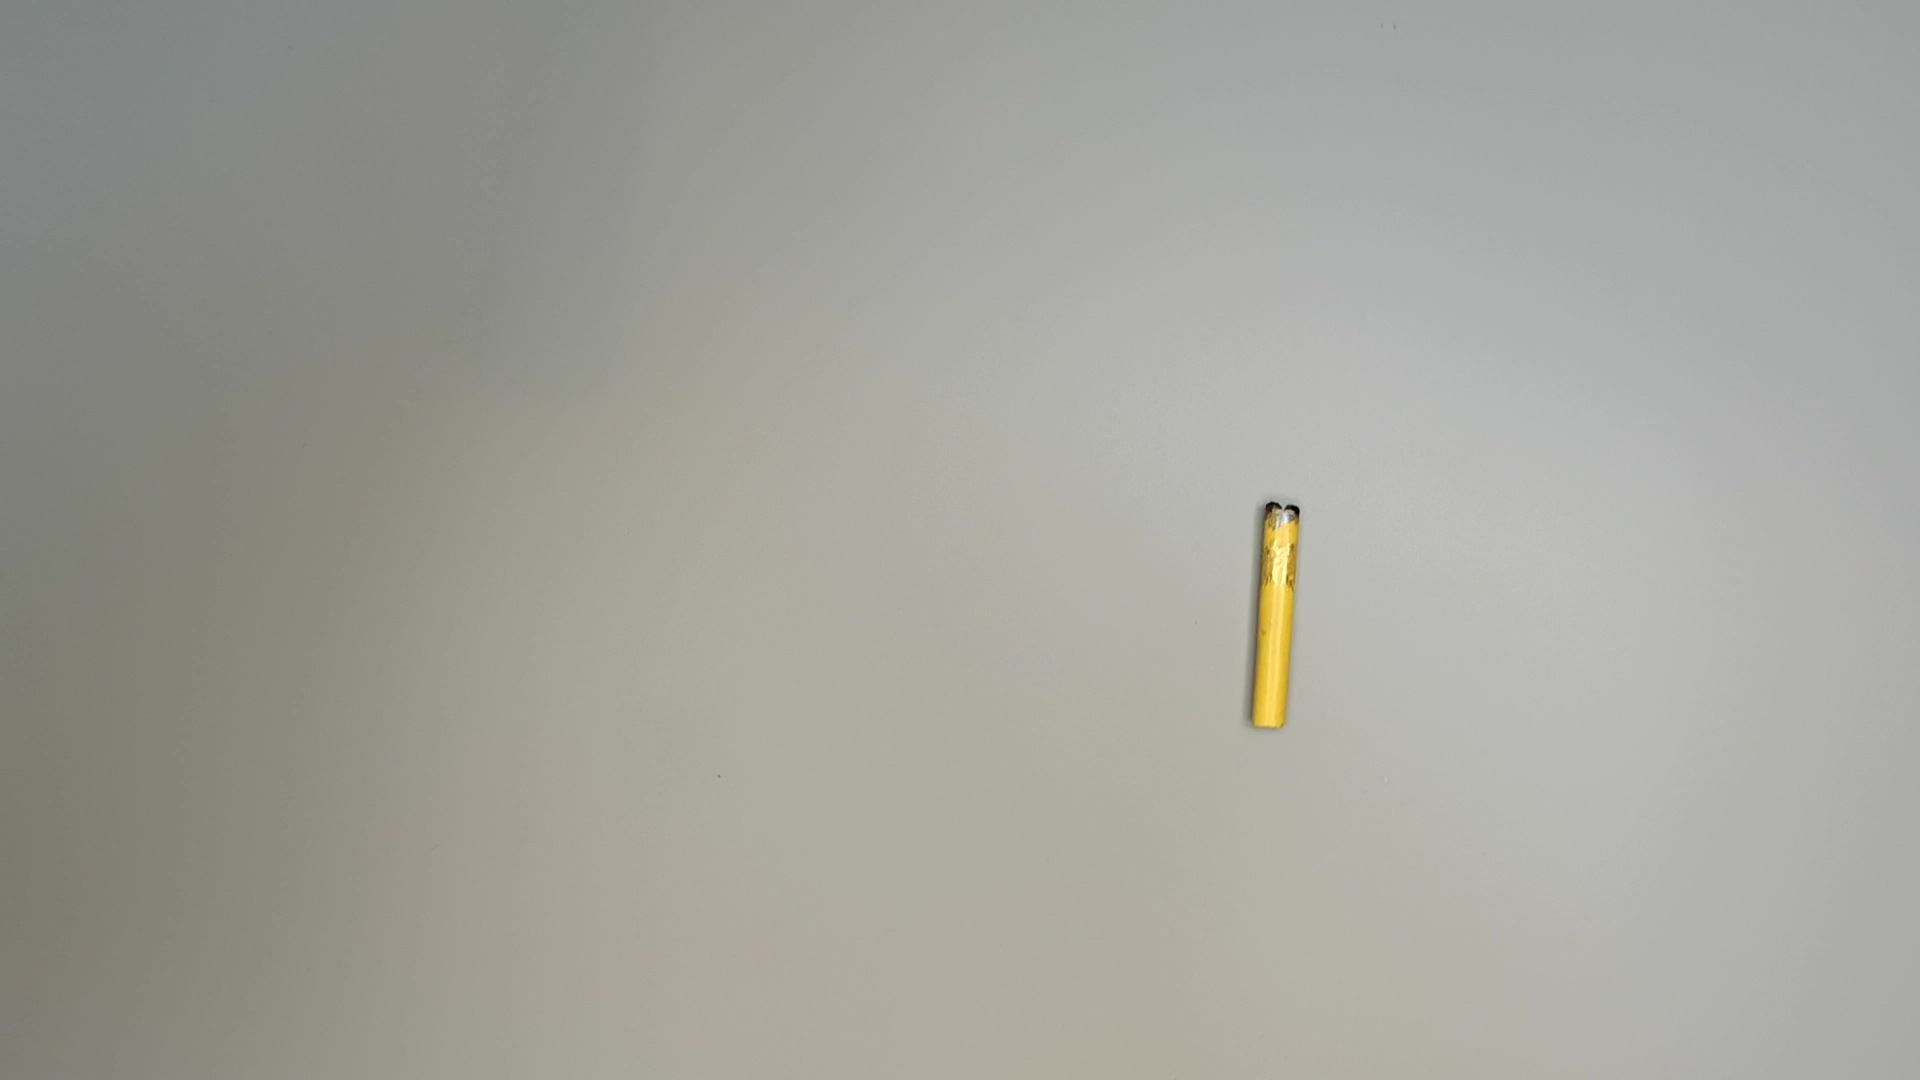cigarette: (1234, 497, 1313, 738)
